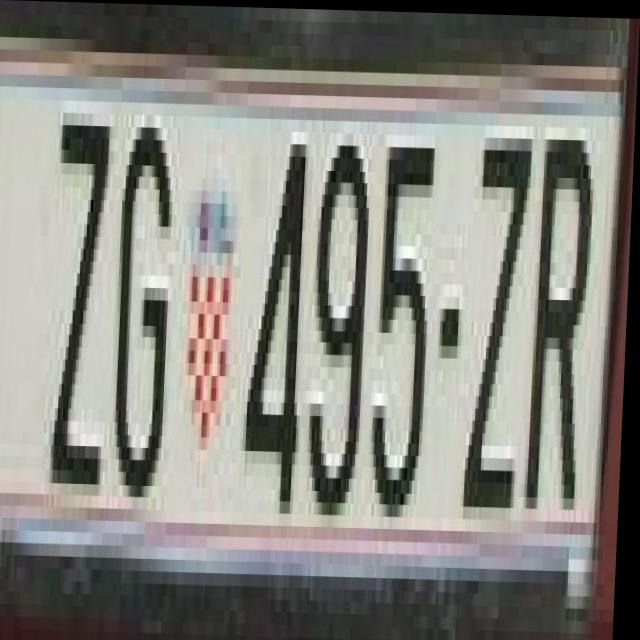4: (244, 117, 316, 524)
5: (365, 132, 439, 515)
9: (315, 119, 374, 526)
G: (110, 114, 183, 521)
Z: (47, 100, 118, 470), (463, 147, 533, 505)
